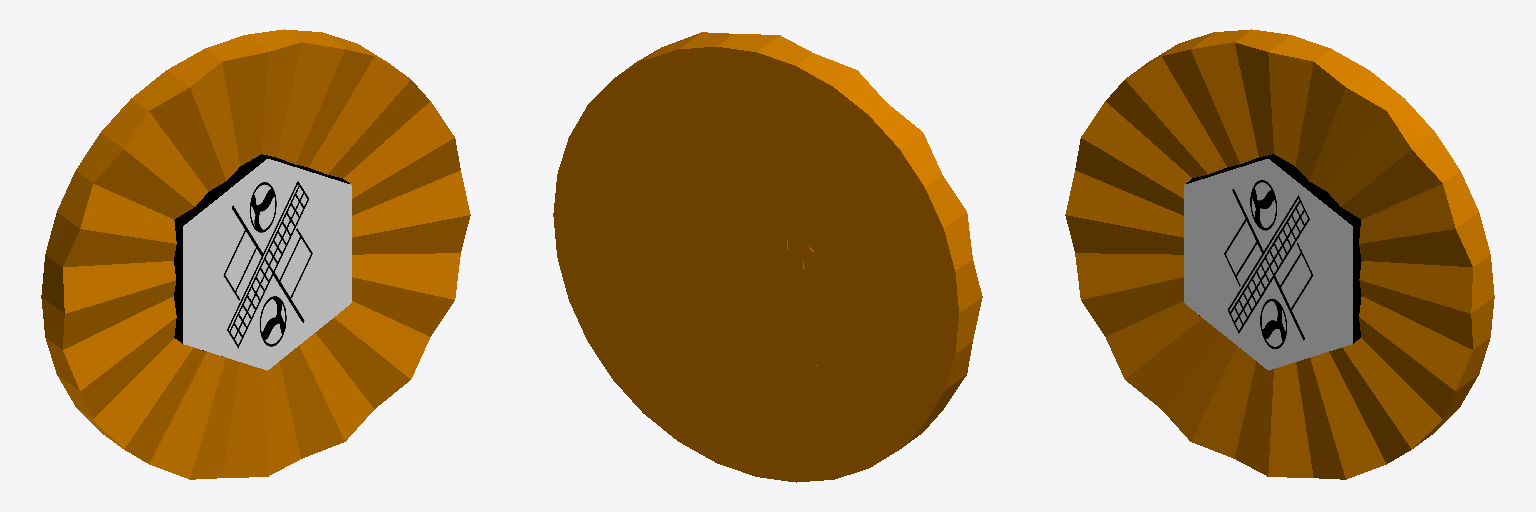
The picture shows the model from 3 angles: view 1: azimuth 30°, elevation 25°; view 2: azimuth 150°, elevation 25°; view 3: azimuth 330°, elevation 25°; orthographic projection.
Parts seen in each view (by area): view 1: Cylinder; view 2: Cylinder; view 3: Cylinder.
Part boxes in pixels (bbox=[...]): Cylinder: bbox=[41, 29, 470, 479]; Cylinder: bbox=[553, 32, 982, 482]; Cylinder: bbox=[1065, 29, 1494, 479].
Size of the model in its own units: 10 by 10 by 1.
Materials: 3 (1 with a texture image).